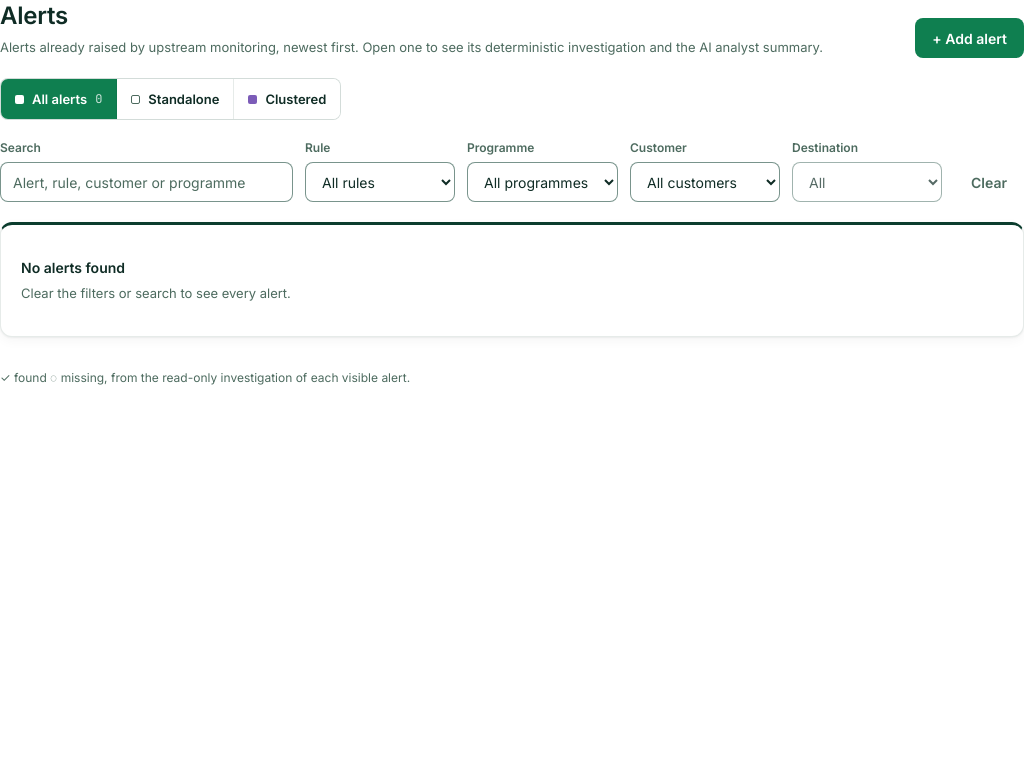
add alert › defaults Detected At to the current date and time in IST, and it can be changed
This screenshot has width=1024, height=768.
Expected: the text "No alerts found" is shown, [21,259,125,276]
Click the button "+ Add alert": (970, 38) [915,18,1023,58]
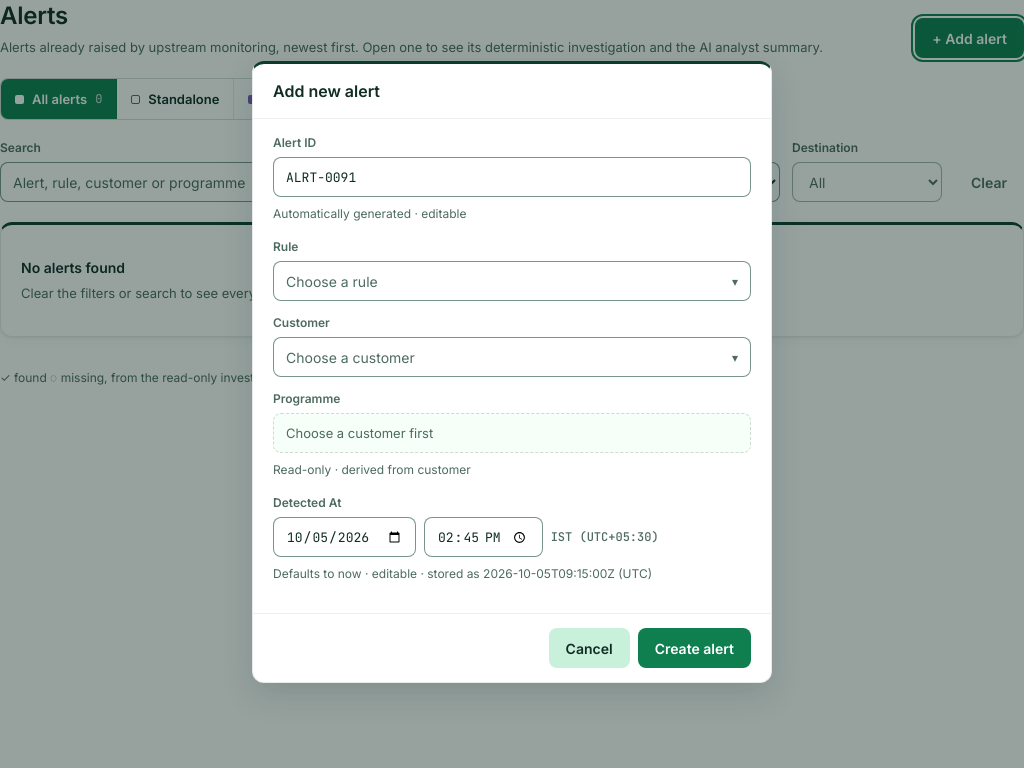
Expected: the field labelled "Alert ID" holds "ALRT-0091", [273,157,751,197]
Expected: the date field named "Detected date (IST)" holds "2026-10-05"
Expected: the time field named "Detected time (IST)" holds "14:45", [424,517,543,557]
In the date field named "Detected date (IST)": (344, 537) [273,517,416,557], type "2026-10-03"
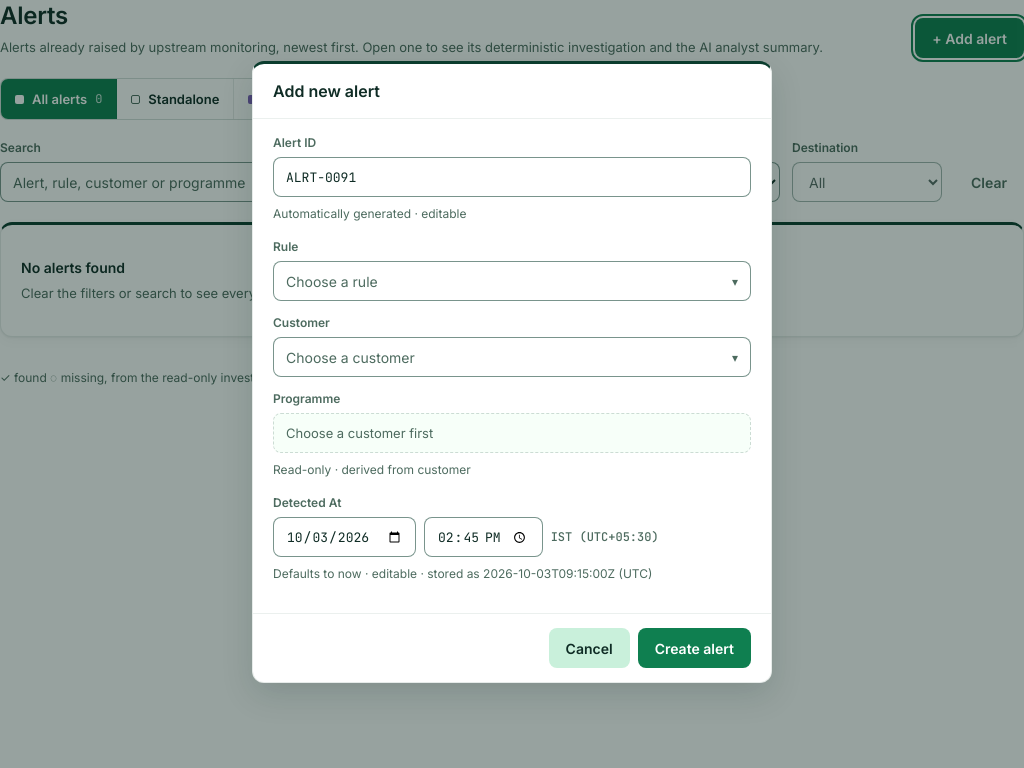
Replace the text in the time field named "Detected time (IST)" with "14:30": (483, 537) [424,517,543,557]
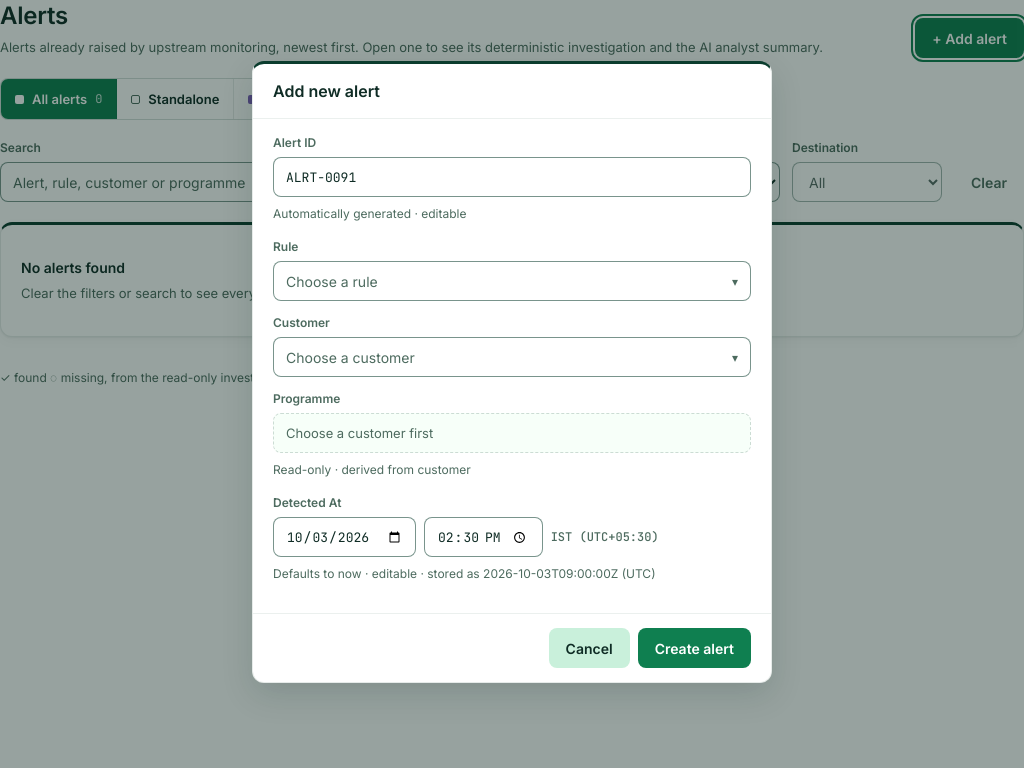
Expected: the text with test id "utc-preview" shows "2026-10-03T09:00:00Z", [417,566,656,581]
